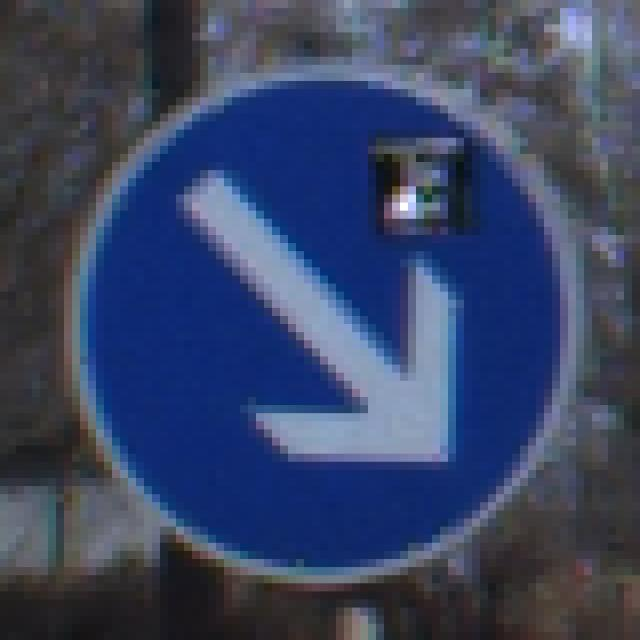compulsary keep right: (66, 56, 586, 587)
